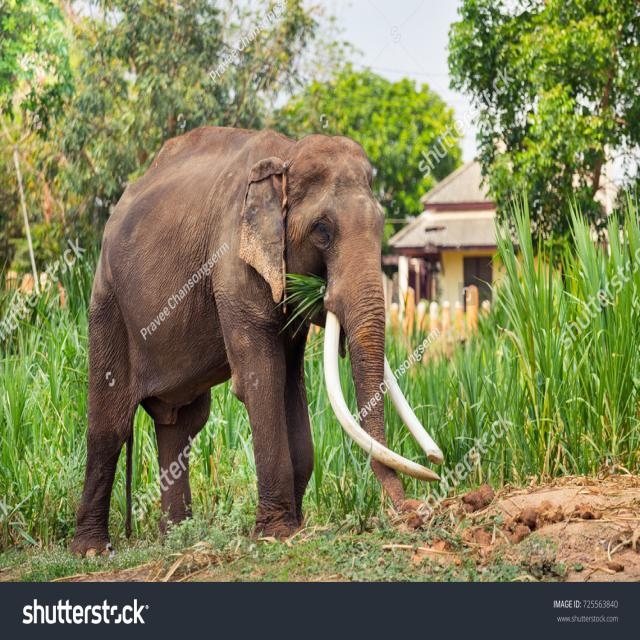Elephant: (74, 109, 441, 560)
